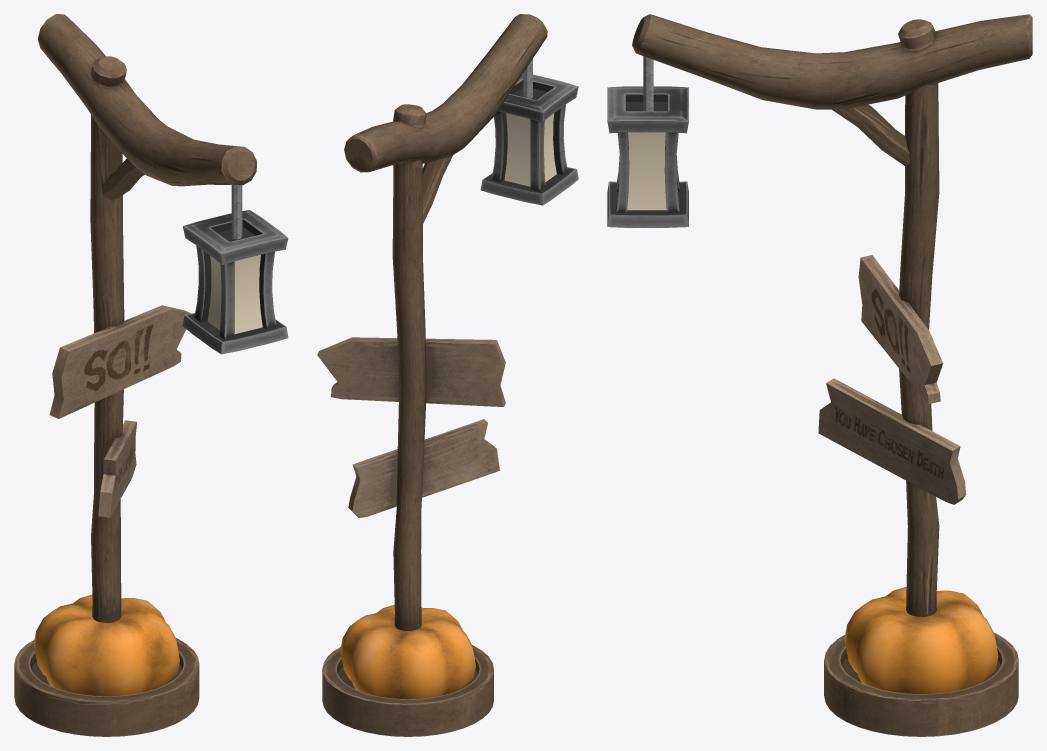
Rendered from spooky_lamp.obj.
The picture shows the model from 3 angles, left to right: view 1: azimuth 30°, elevation 25°; view 2: azimuth 150°, elevation 25°; view 3: azimuth 270°, elevation 25°; orthographic projection. The views are drawn at different scales.
Visible parts, largest first — view 1: Lantern1_2_Lantern1_0, Lantern1_Light_Lantern1_Light_0; view 2: Lantern1_2_Lantern1_0, Lantern1_Light_Lantern1_Light_0; view 3: Lantern1_2_Lantern1_0, Lantern1_Light_Lantern1_Light_0.
Part boxes in pixels (box(x1,y1,x2,y2)): Lantern1_2_Lantern1_0: box(14, 14, 256, 736); Lantern1_Light_Lantern1_Light_0: box(182, 210, 288, 354); Lantern1_2_Lantern1_0: box(317, 14, 547, 736); Lantern1_Light_Lantern1_Light_0: box(480, 73, 578, 205); Lantern1_2_Lantern1_0: box(632, 14, 1032, 736); Lantern1_Light_Lantern1_Light_0: box(607, 86, 688, 227).
Bounding box in the file's own units: 0.9367 × 3.37 × 1.91.
2 materials, 2 textured.
